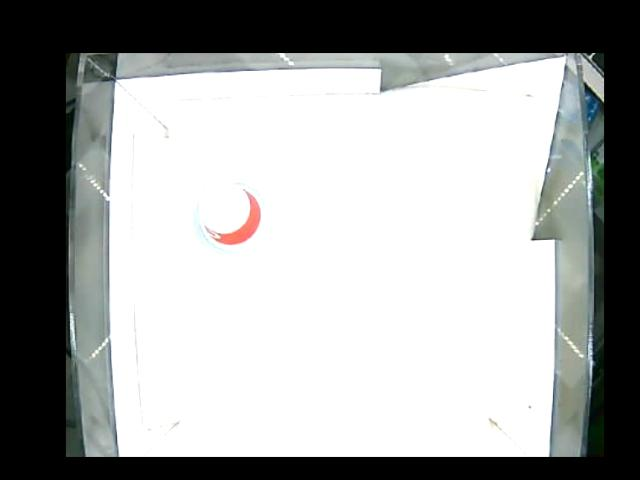Cup: (195, 180, 267, 253)
